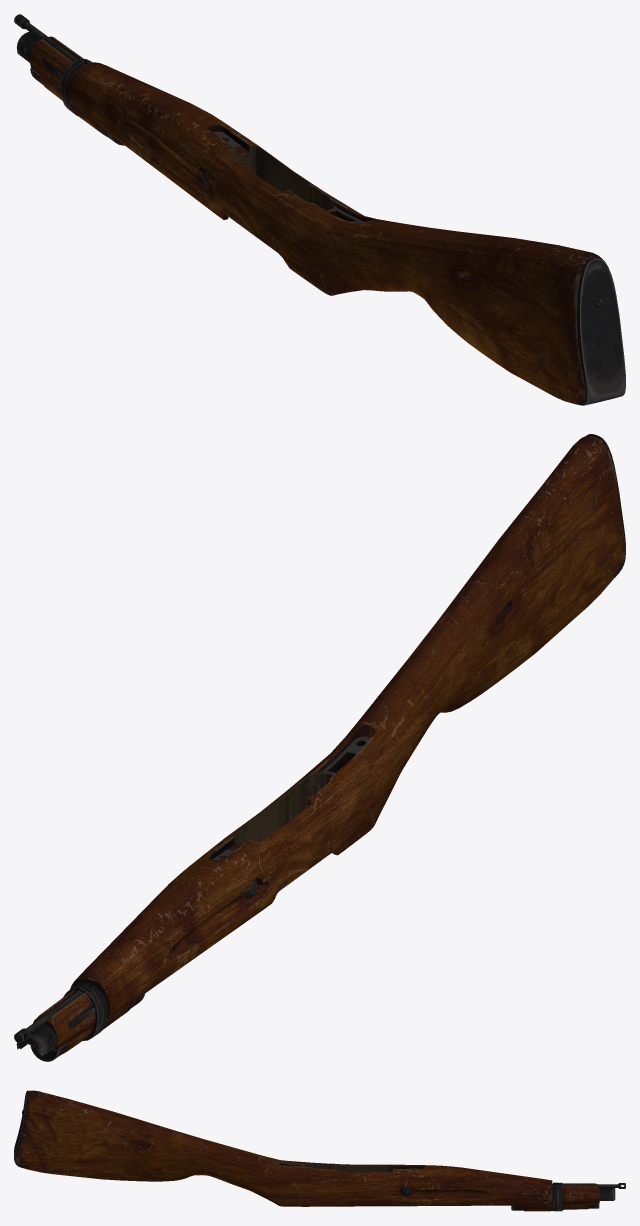
3 views of the same model, one above another, from view 1: azimuth 30°, elevation 25°; view 2: azimuth 150°, elevation 25°; view 3: azimuth 270°, elevation 25° (orthographic). The views are drawn at different scales.
Visible parts, largest first — view 1: TW_5c99f3592e221644fc633070_PZ_Import; view 2: TW_5c99f3592e221644fc633070_PZ_Import; view 3: TW_5c99f3592e221644fc633070_PZ_Import.
Boxes of the visible parts, bbox=[...] form: TW_5c99f3592e221644fc633070_PZ_Import: bbox=[14, 14, 625, 405]; TW_5c99f3592e221644fc633070_PZ_Import: bbox=[14, 434, 625, 1061]; TW_5c99f3592e221644fc633070_PZ_Import: bbox=[14, 1090, 625, 1211].
Bounding box in the file's own units: 0.0254 × 0.4678 × 0.1006.
Materials: 1 (1 with a texture image).
